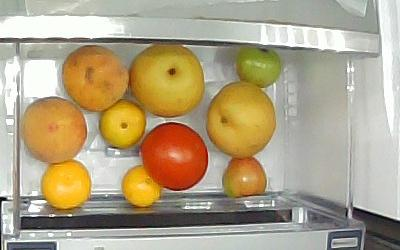peach: (61, 45, 129, 111), (22, 96, 88, 163)
pear: (130, 43, 204, 118), (207, 82, 278, 157)
tangerine: (41, 161, 92, 211), (99, 101, 146, 150), (123, 165, 160, 208)
tomato: (141, 122, 208, 191), (221, 155, 268, 198), (235, 46, 283, 88)
